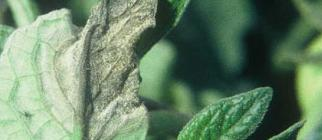Tomato leaf late blight: (0, 0, 234, 140)
